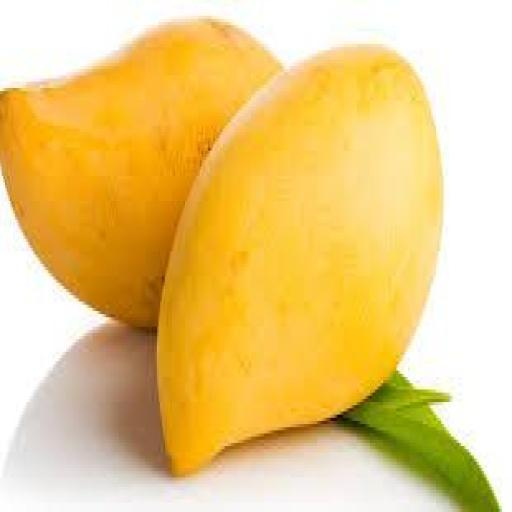mango: (157, 48, 442, 474), (0, 19, 280, 326)
